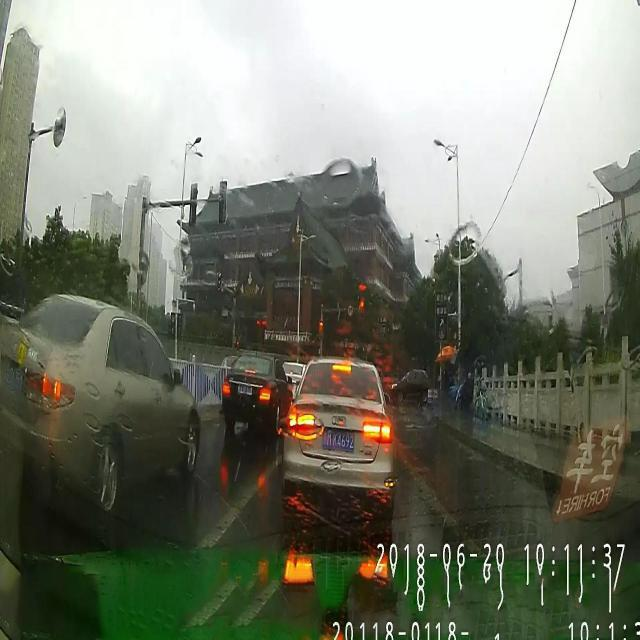car: (1, 295, 198, 509), (283, 360, 395, 532), (222, 356, 294, 431), (388, 368, 428, 404)
